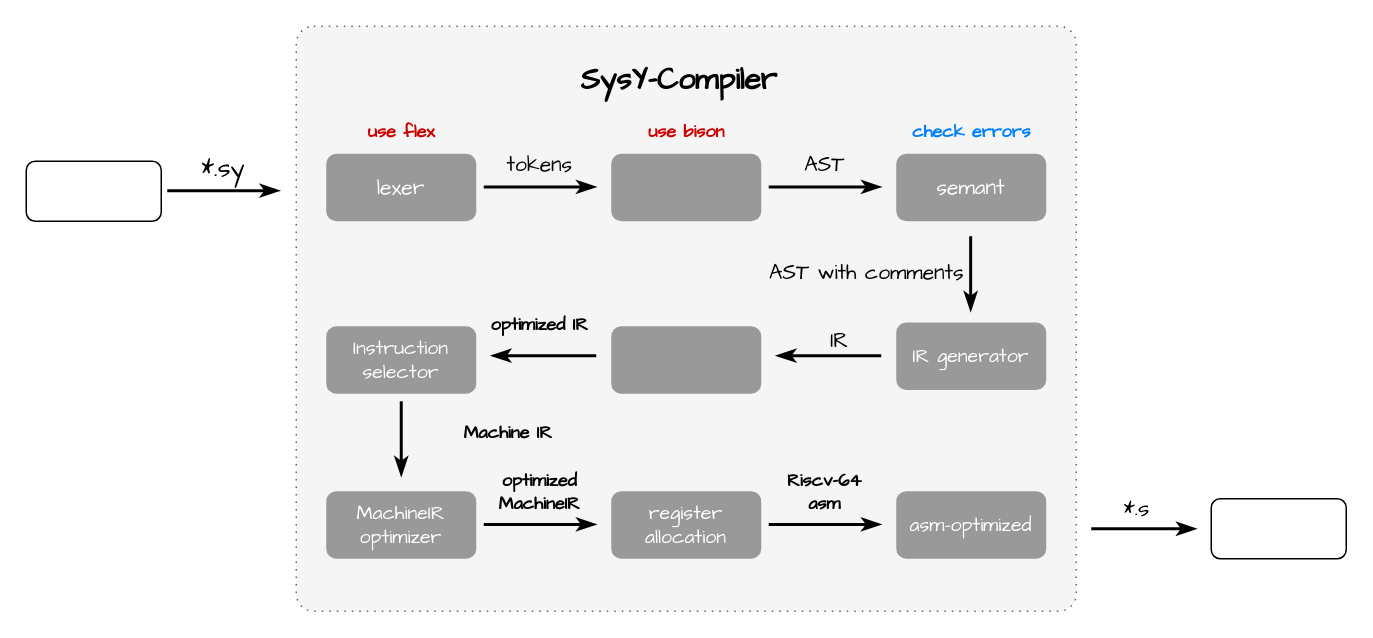
Some shapes in this 1373 by 638 pixel diagram are drawn without their labels. Each missing label, with the centre of its shape:
input: the point at 93,190
optimizer: the point at 685,359
output: the point at 1278,528
parser: the point at 685,186
